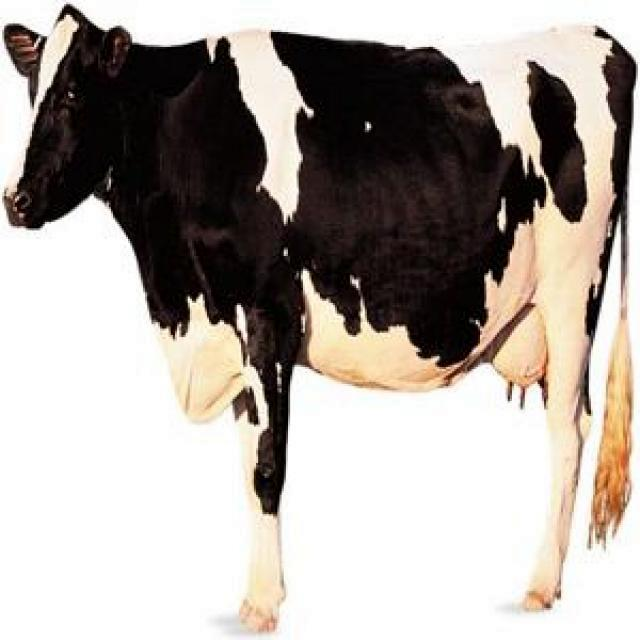COW: (5, 6, 635, 629)
